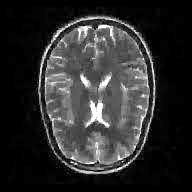Normal_Brain: (12, 1, 192, 192)
